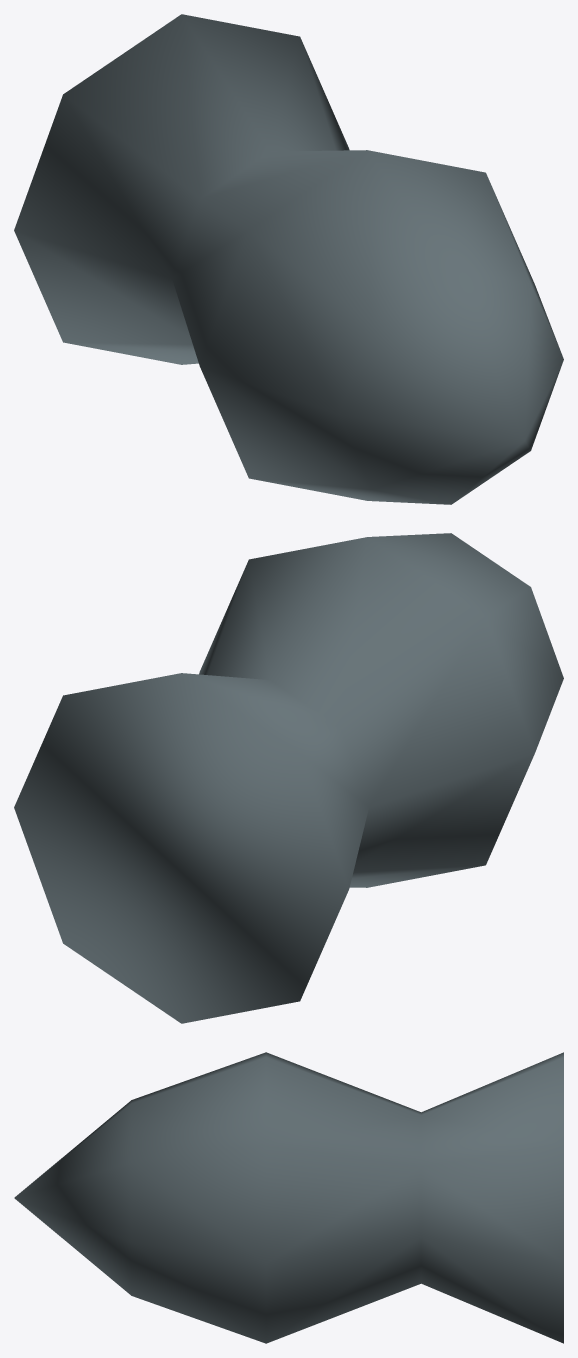
The model's file is MortarShell.fbx.
3 renders of one model, top to bottom at view 1: azimuth 30°, elevation 25°; view 2: azimuth 150°, elevation 25°; view 3: azimuth 270°, elevation 25°, orthographic. The views are drawn at different scales.
Parts seen in each view (by area): view 1: MortarShell.001; view 2: MortarShell.001; view 3: MortarShell.001.
Part boxes in pixels (<box>): MortarShell.001: <box>14,14,563,504</box>; MortarShell.001: <box>14,533,563,1023</box>; MortarShell.001: <box>14,1052,563,1343</box>.
Size of the model in its own units: 2.17 by 2.17 by 3.85.
Materials: 1 (1 with a texture image).
